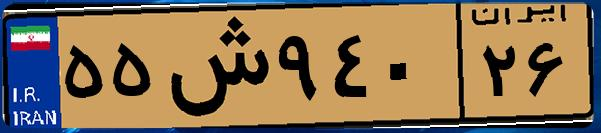0: (385, 28, 445, 110)
2: (475, 38, 525, 113)
4: (330, 28, 385, 110)
5: (57, 26, 110, 100), (110, 28, 158, 98)
6: (525, 38, 570, 115)
9: (270, 28, 330, 110)
ش: (158, 12, 270, 120)
